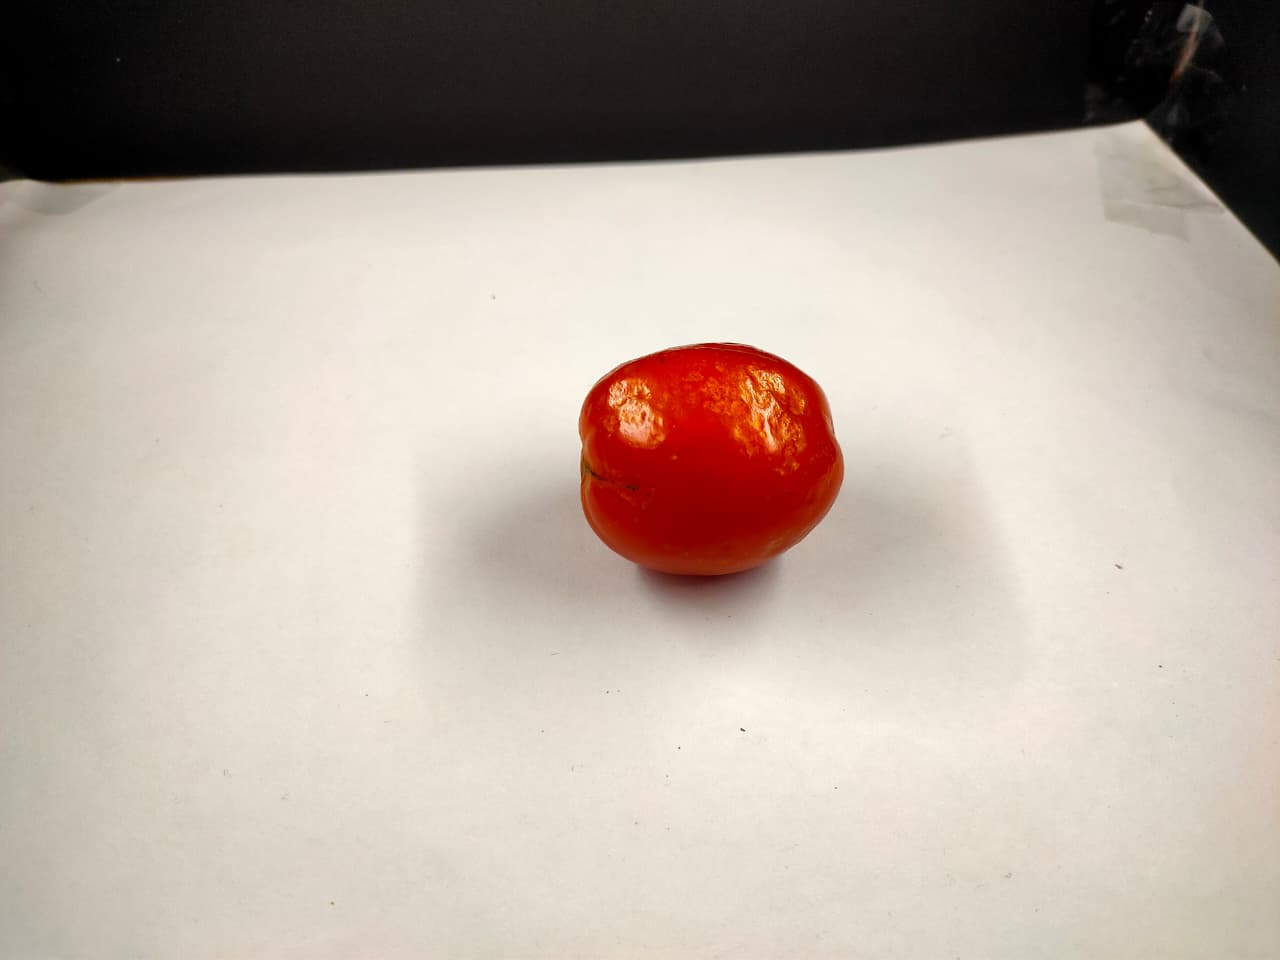damaged: (563, 349, 851, 589)
